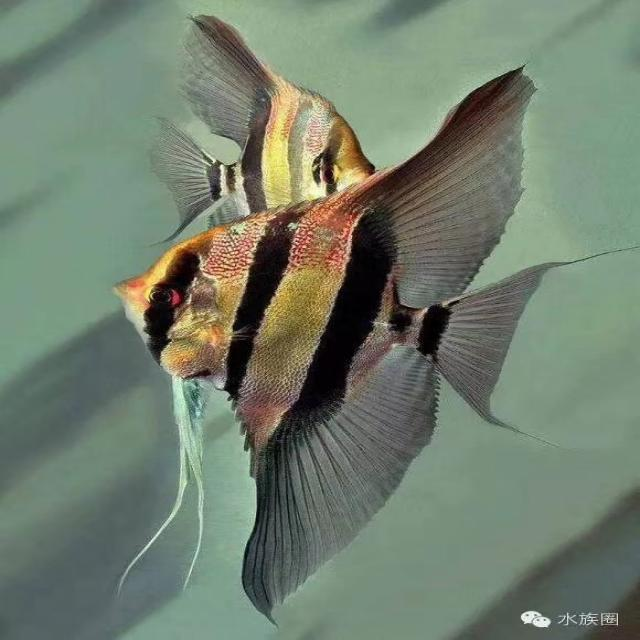AngelFish: (109, 63, 556, 634), (146, 20, 392, 247)
